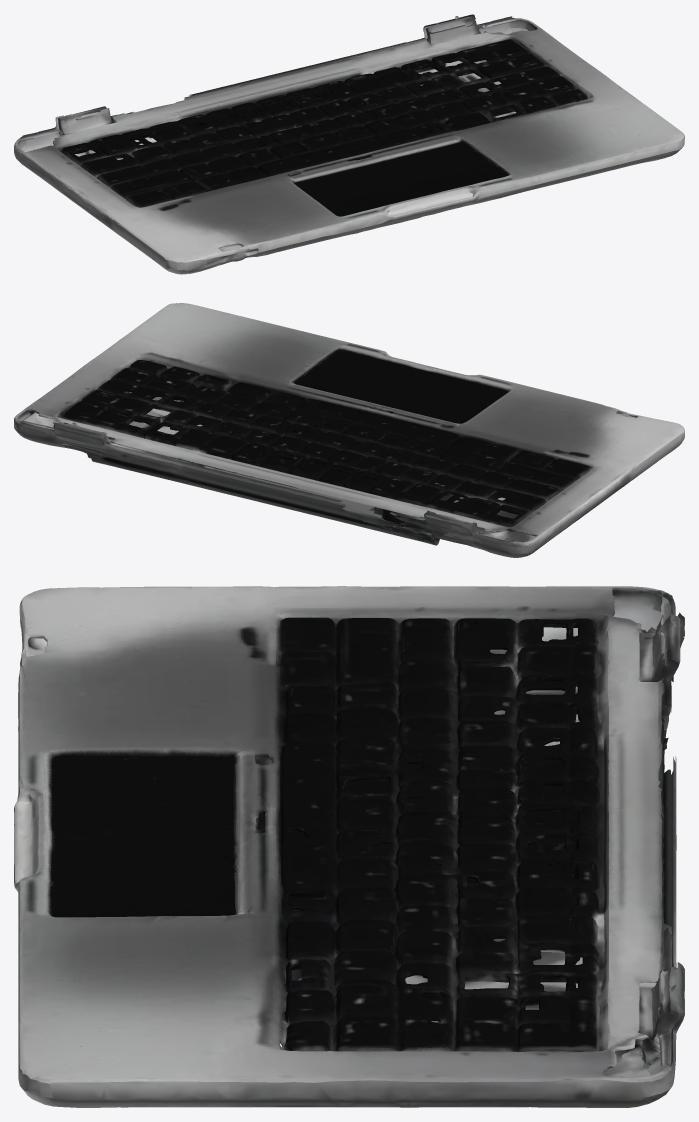
3 views of the same model, one above another, from view 1: azimuth 30°, elevation 25°; view 2: azimuth 150°, elevation 25°; view 3: azimuth 270°, elevation 25° (orthographic). The views are drawn at different scales.
Visible parts, largest first — view 1: world; view 2: world; view 3: world.
Boxes of the visible parts, x1,y1,x2,y2 form: world: (14,14,684,274); world: (14,303,684,557); world: (14,586,684,1107).
Bounding box in the file's own units: 0.31 × 0.0254 × 0.1776.
1 material, 1 textured.
